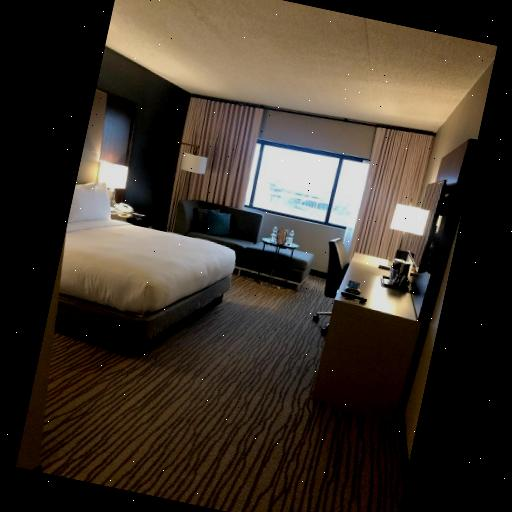chair: (306, 236, 352, 336)
clean_bed: (56, 181, 232, 358)
clean_floor: (33, 271, 406, 512)
lamp: (381, 196, 435, 266), (166, 138, 210, 194), (89, 156, 133, 210)
organized table: (312, 244, 432, 426)
